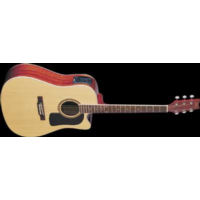guitar: (1, 63, 199, 137)
